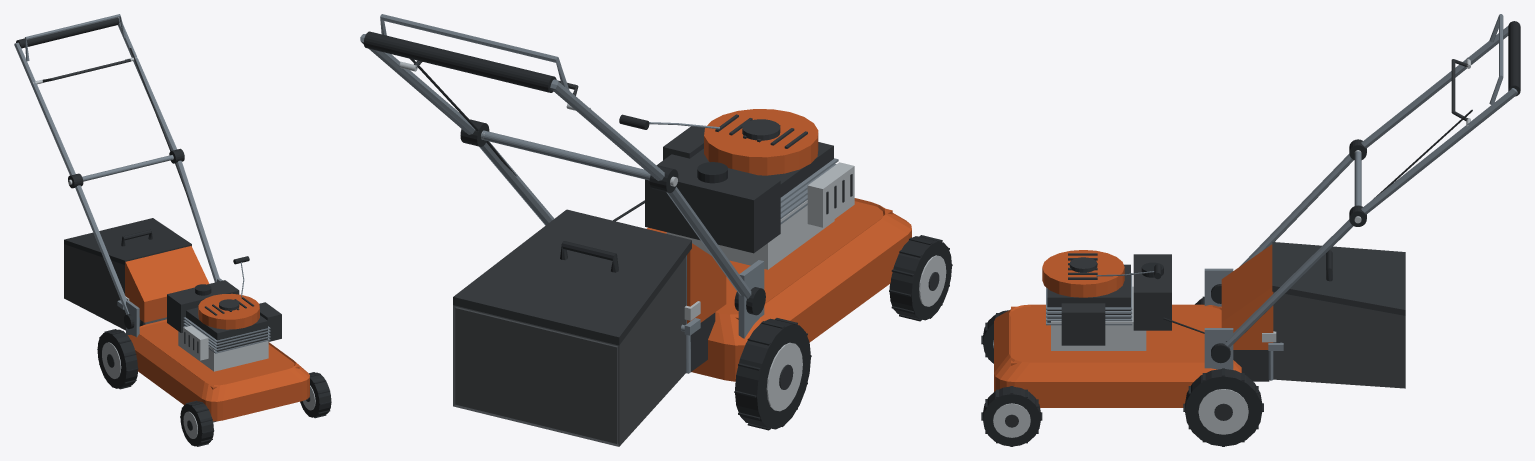
3 views of the same model, side by side, from view 1: azimuth 30°, elevation 25°; view 2: azimuth 150°, elevation 25°; view 3: azimuth 270°, elevation 25° (orthographic). The views are drawn at different scales.
Visible parts, largest first — view 1: Deck_hollow_inverted_bowl, Rear_discharge_upper_hood, Collector_fabric_open_neck, Collector_lid, Deck_roof, Upper_walking_handle_U, Recoil_cover, Tire_rear-1, Fuel_tank, Engine_crankcase, Cylinder_block, Tire_front-1 (+10 smaller); view 2: Collector_lid, Collector_rear_fabric, Deck_hollow_inverted_bowl, Collector_fabric_open_neck, Fuel_tank, Recoil_cover, Tire_rear-1, Deck_roof, Walking_grip, Upper_walking_handle_U, Tire_front-1, Engine_crankcase (+15 smaller); view 3: Collector_fabric_open_neck, Deck_hollow_inverted_bowl, Collector_lid, Deck_roof, Rear_discharge_upper_hood, Upper_walking_handle_U, Tire_rear1, Recoil_cover, Fuel_tank, Air_filter, Tire_front1, Engine_crankcase (+10 smaller).
Boxes of the visible parts, left/top/right/bottom form: Deck_hollow_inverted_bowl: left=128, top=319, right=309, bottom=421; Rear_discharge_upper_hood: left=125, top=246, right=209, bottom=322; Collector_fabric_open_neck: left=64, top=244, right=166, bottom=330; Collector_lid: left=64, top=218, right=191, bottom=264; Deck_roof: left=139, top=321, right=299, bottom=389; Upper_walking_handle_U: left=14, top=18, right=177, bottom=175; Recoil_cover: left=198, top=293, right=259, bottom=329; Tire_rear-1: left=97, top=329, right=137, bottom=388; Fuel_tank: left=167, top=280, right=239, bottom=332; Engine_crankcase: left=178, top=327, right=268, bottom=371; Cylinder_block: left=186, top=307, right=267, bottom=351; Tire_front-1: left=180, top=401, right=213, bottom=446; Collector_lid: left=453, top=209, right=691, bottom=345; Collector_rear_fabric: left=455, top=307, right=618, bottom=443; Deck_hollow_inverted_bowl: left=646, top=198, right=911, bottom=381; Collector_fabric_open_neck: left=453, top=257, right=685, bottom=446; Fuel_tank: left=645, top=154, right=780, bottom=253; Recoil_cover: left=704, top=109, right=818, bottom=175; Tire_rear-1: left=735, top=318, right=810, bottom=429; Deck_roof: left=651, top=201, right=892, bottom=319; Walking_grip: left=363, top=31, right=556, bottom=92; Upper_walking_handle_U: left=360, top=34, right=664, bottom=180; Tire_front-1: left=889, top=236, right=951, bottom=320; Engine_crankcase: left=666, top=200, right=834, bottom=269; Collector_fabric_open_neck: left=1273, top=292, right=1405, bottom=388; Deck_hollow_inverted_bowl: left=994, top=304, right=1241, bottom=407; Collector_lid: left=1272, top=242, right=1405, bottom=315; Deck_roof: left=1011, top=306, right=1221, bottom=365; Rear_discharge_upper_hood: left=1221, top=244, right=1273, bottom=349; Upper_walking_handle_U: left=1361, top=25, right=1517, bottom=214; Tire_rear1: left=1185, top=369, right=1262, bottom=446; Recoil_cover: left=1042, top=250, right=1124, bottom=297; Fuel_tank: left=1133, top=254, right=1171, bottom=330; Air_filter: left=1061, top=303, right=1105, bottom=345; Tire_front1: left=983, top=386, right=1040, bottom=446; Engine_crankcase: left=1051, top=286, right=1146, bottom=350.
Size of the model in its own units: 0.535 by 1.04 by 1.41.
